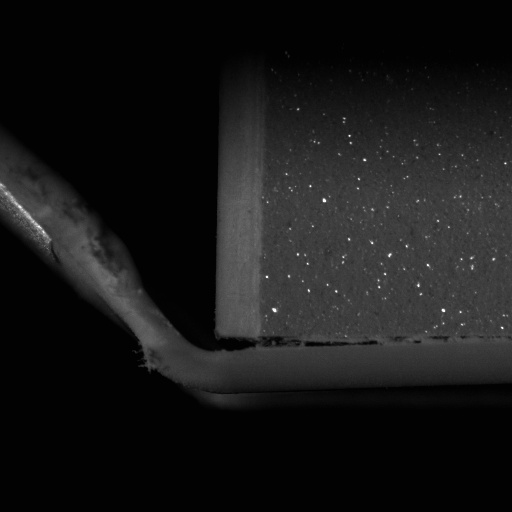kaijiao: (3, 135, 229, 399), (208, 325, 511, 394)
